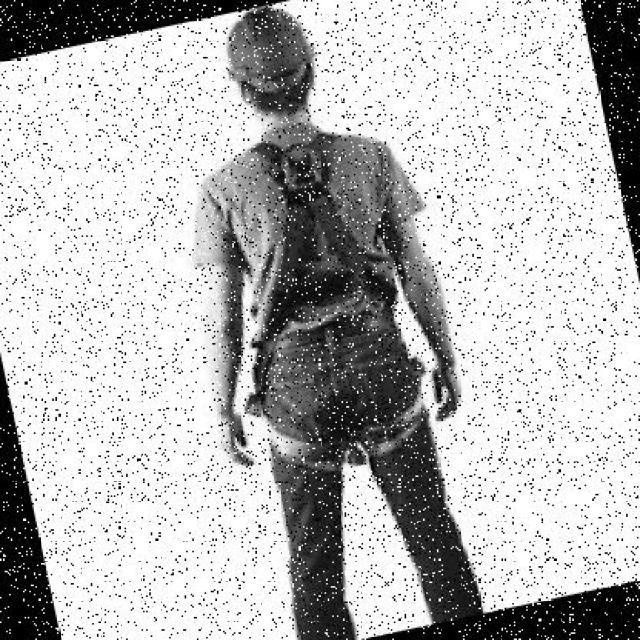Arnes_seguridad: (189, 114, 443, 488)
